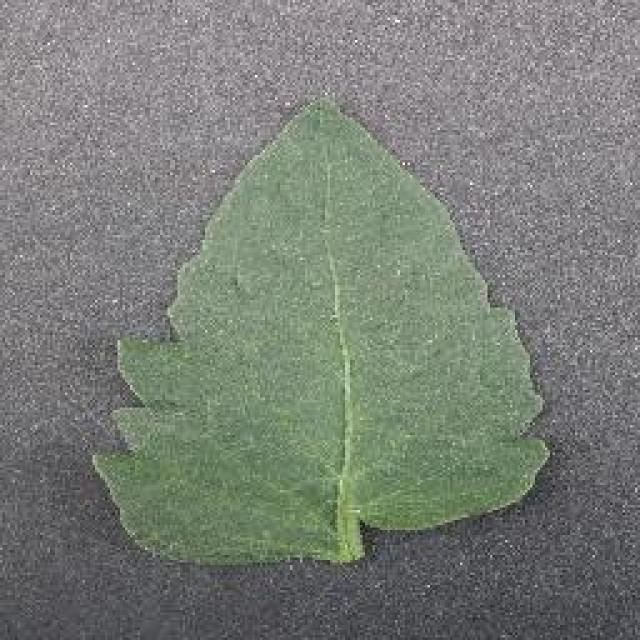Tomato healthy leaf: (101, 99, 546, 569)
